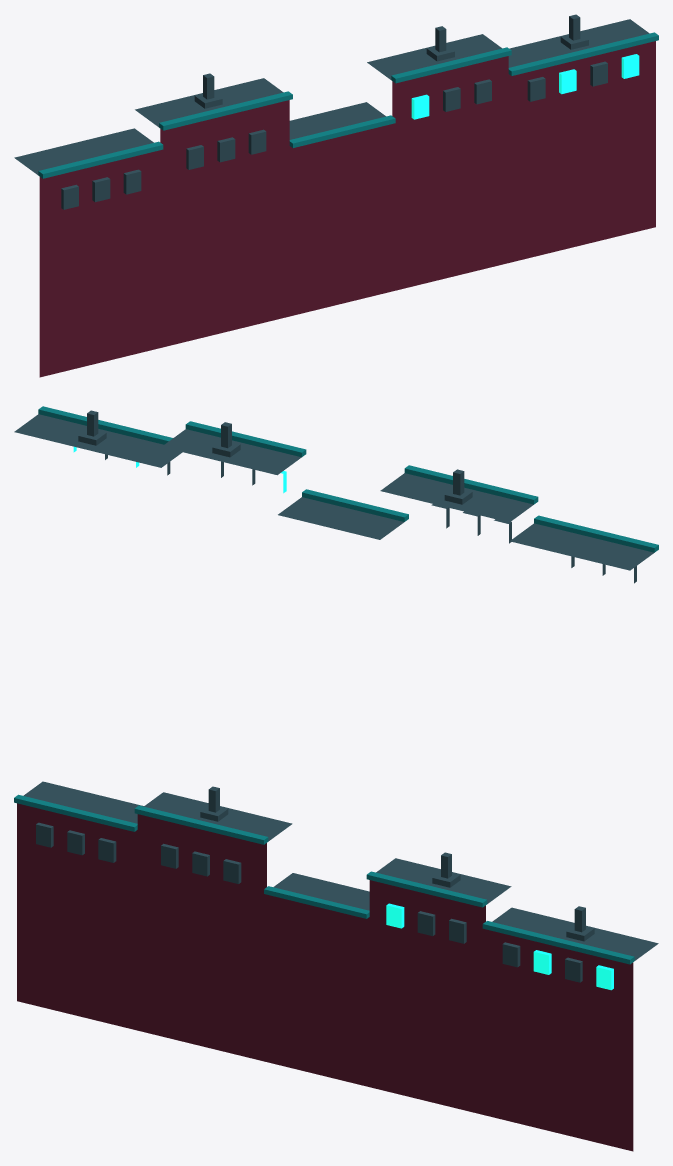
Rendered from backrow.glb.
3 views of the same model, one above another, from view 1: azimuth 30°, elevation 25°; view 2: azimuth 150°, elevation 25°; view 3: azimuth 330°, elevation 25° (orthographic).
Visible parts, largest first — view 1: B1, B4, B0, B3, B2, C4, C1, C0, C3, C2; view 2: B4, B0, B1, B2, B3, C0, C1, C4, C3, C2; view 3: B1, B4, B3, B0, B2, C4, C1, C0, C3, C2.
Boxes of the visible parts, <box> form: B1: <box>135,78,289,347</box>; B4: <box>508,19,655,262</box>; B0: <box>14,128,160,377</box>; B3: <box>367,34,508,291</box>; B2: <box>289,102,392,316</box>; C4: <box>508,32,658,75</box>; C1: <box>159,91,292,130</box>; C0: <box>38,141,163,178</box>; C3: <box>391,47,511,83</box>; C2: <box>289,115,395,147</box>; B4: <box>14,414,182,467</box>; B0: <box>510,523,654,570</box>; B1: <box>380,473,533,522</box>; B2: <box>278,497,404,539</box>; B3: <box>162,429,301,475</box>; C0: <box>534,515,658,552</box>; C1: <box>404,465,538,504</box>; C4: <box>38,406,172,444</box>; C3: <box>185,421,306,457</box>; C2: <box>302,489,408,521</box>; B1: <box>137,792,292,1061</box>; B4: <box>486,907,658,1151</box>; B3: <box>369,858,511,1115</box>; B0: <box>17,781,143,1030</box>; B2: <box>267,873,369,1086</box>; C4: <box>482,921,634,964</box>; C1: <box>134,805,268,844</box>; C0: <box>14,794,137,831</box>; C3: <box>366,871,487,907</box>; C2: <box>264,886,369,918</box>.
Size of the model in its own units: 13.8 by 5.28 by 1.12.
